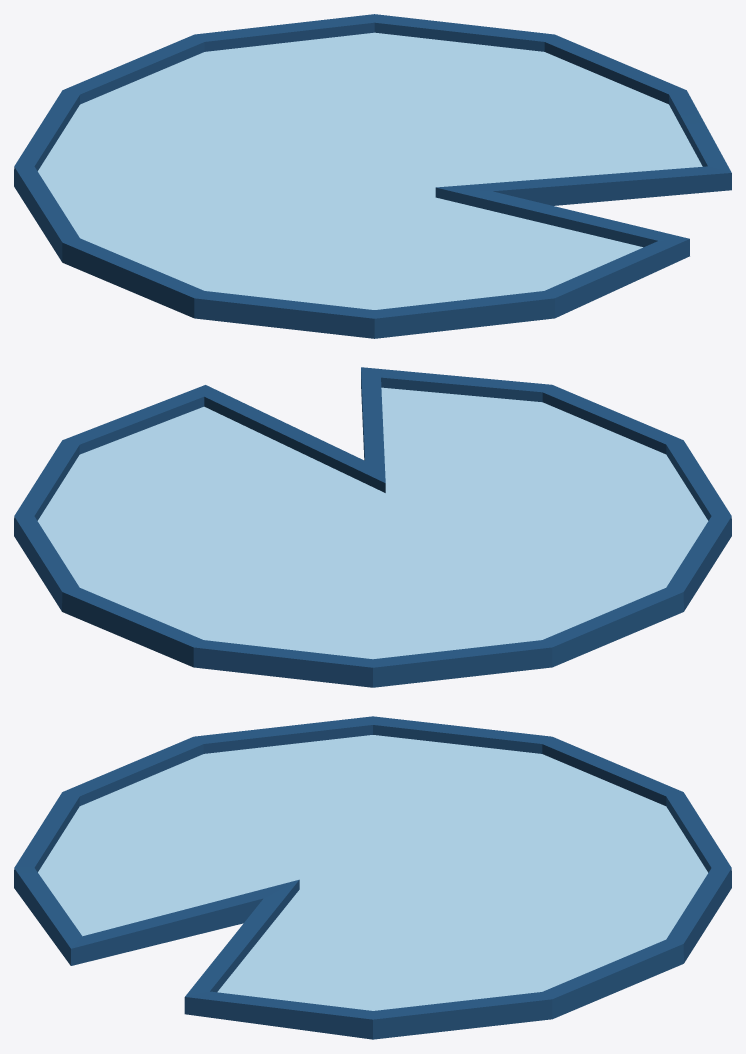
File: GreenPAD.fbx
3 renders of one model, top to bottom at view 1: azimuth 30°, elevation 25°; view 2: azimuth 150°, elevation 25°; view 3: azimuth 270°, elevation 25°, orthographic.
Parts seen in each view (by area): view 1: Circle.018; view 2: Circle.018; view 3: Circle.018.
Part boxes in pixels (x1,y1,x2,y2): Circle.018: [14, 14, 731, 338]; Circle.018: [14, 367, 731, 687]; Circle.018: [14, 716, 731, 1039].
Bounding box in the file's own units: 1487 × 45.73 × 1487.
